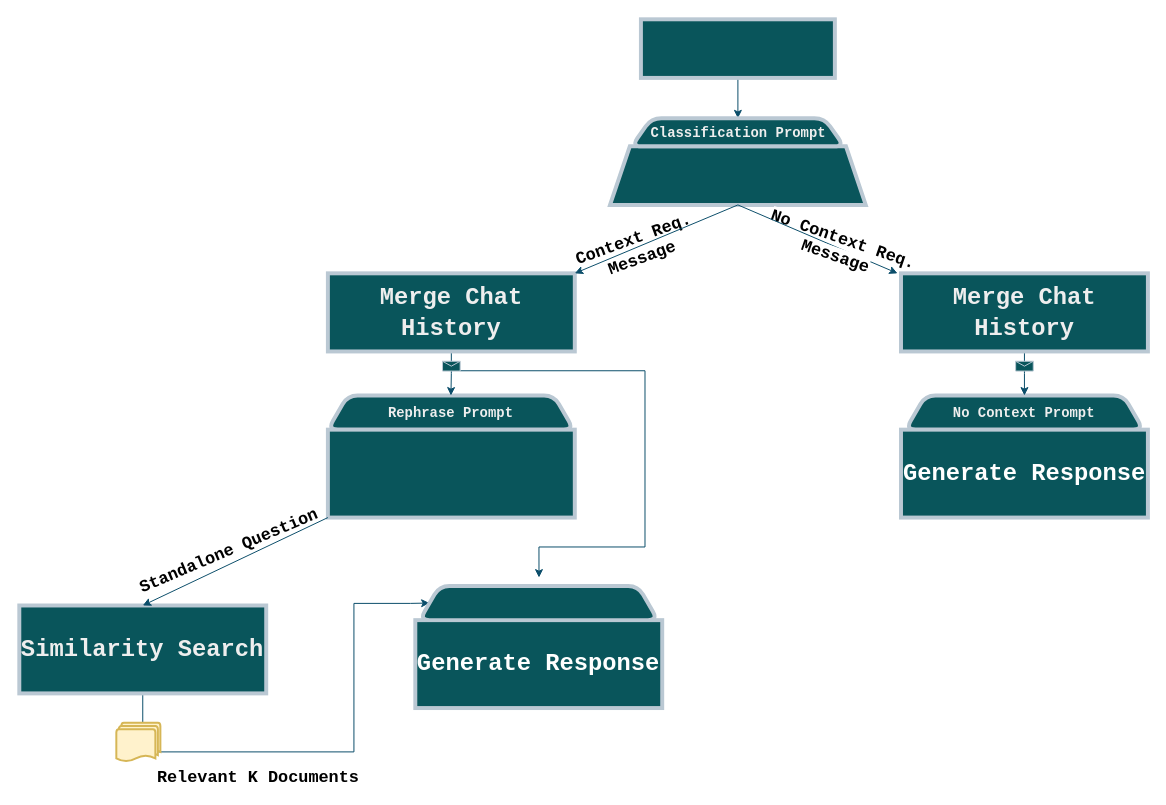
Image size: 1166x805. Some labels were removed from this diagram. The shapes that lost their labels are listed below. From the top down, each one's centre as x and y in pixels, then its label:
(x=737, y=48): User Message
(x=737, y=175): Classify
(x=450, y=473): Generate Standalone Question
(x=538, y=603): Context Prompt
